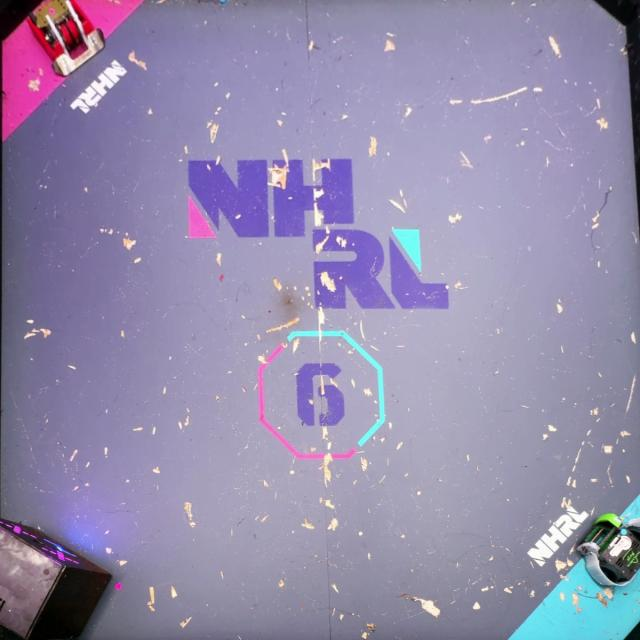housebot: (0, 517, 109, 639)
robot: (23, 0, 106, 77), (576, 512, 640, 588)
